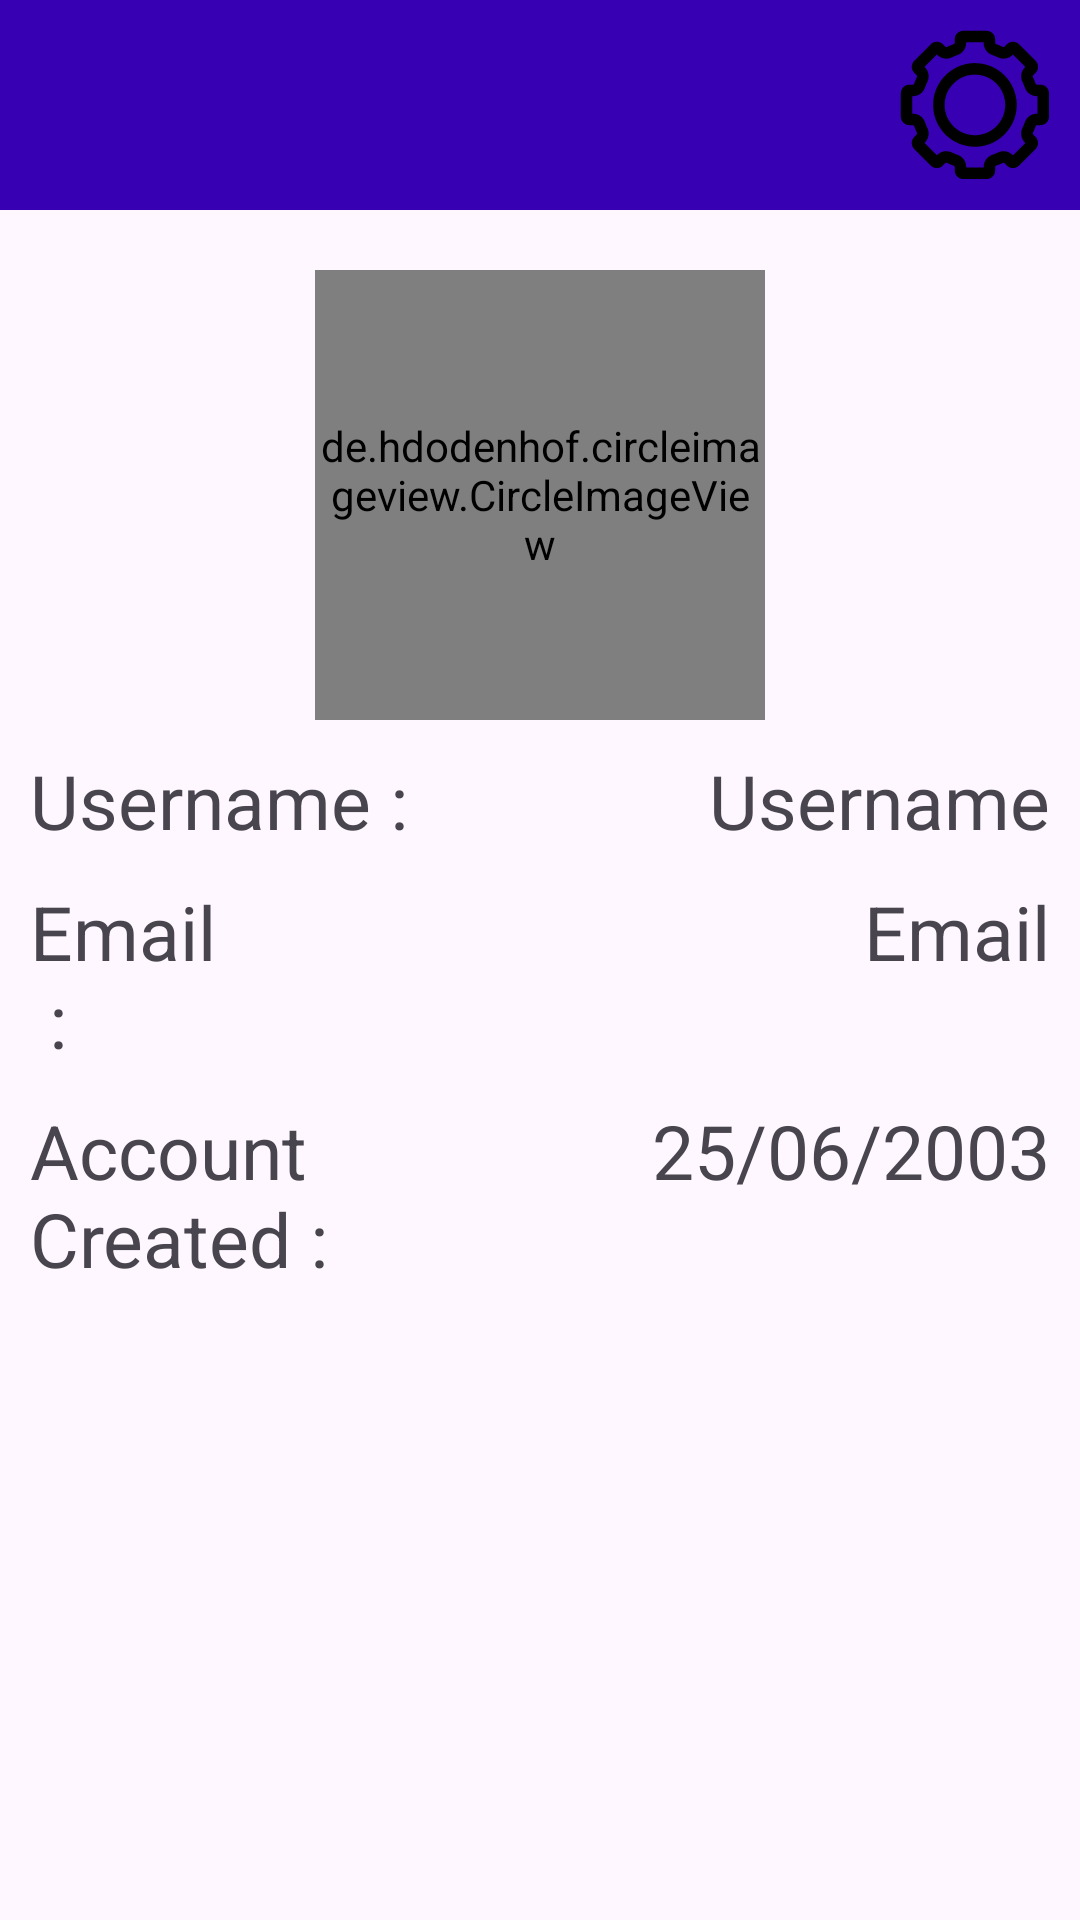

Icon click points for this 1080×1920 phone screenshot, format (x=x, y=y):
settings: (x=974, y=104)
